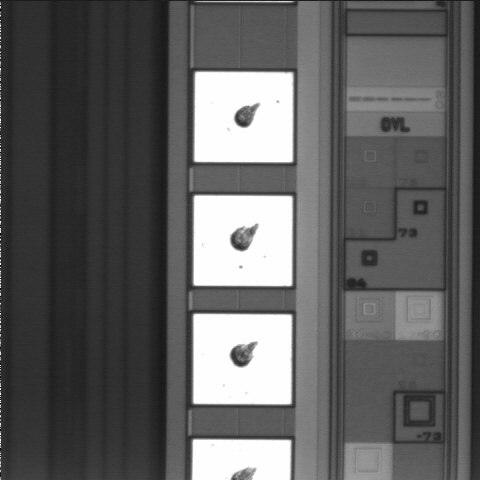pad: (194, 72, 293, 162), (193, 314, 292, 404), (194, 196, 292, 286)
